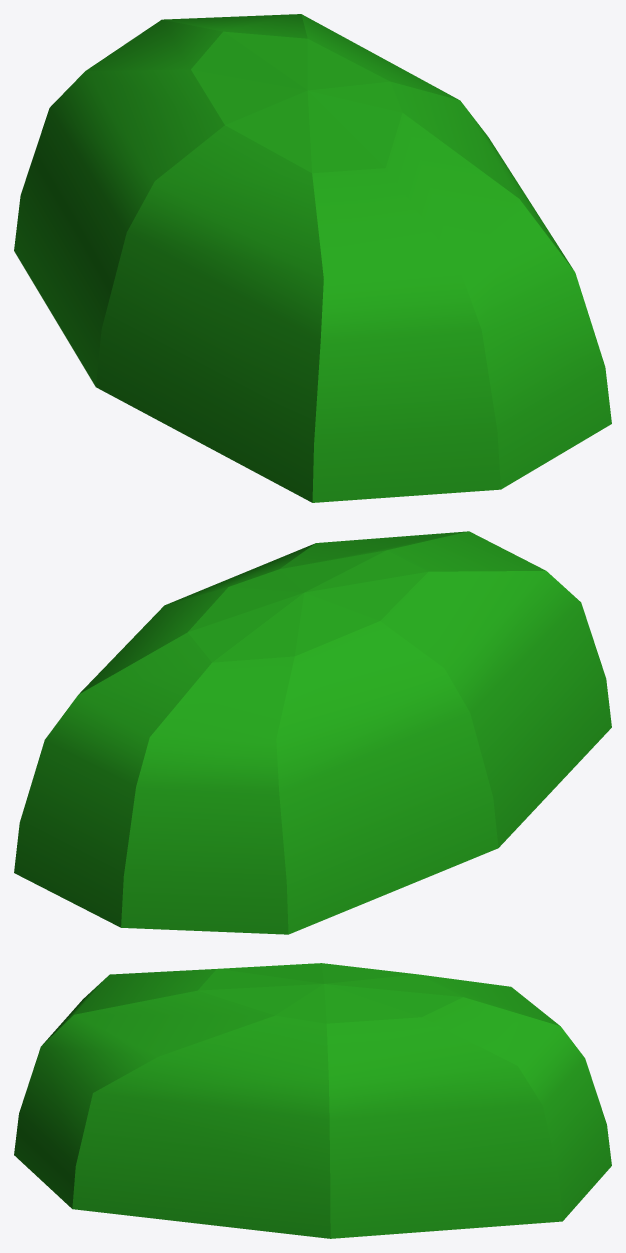
File: Bush2.glb
The picture shows the model from 3 angles, top to bottom: view 1: azimuth 30°, elevation 25°; view 2: azimuth 150°, elevation 25°; view 3: azimuth 270°, elevation 25°; orthographic projection. The views are drawn at different scales.
Parts seen in each view (by area): view 1: Bush2; view 2: Bush2; view 3: Bush2.
Part boxes in pixels (bbox=[...]): Bush2: bbox=[14, 14, 611, 502]; Bush2: bbox=[14, 531, 611, 934]; Bush2: bbox=[14, 963, 611, 1238].
Size of the model in its own units: 0.6799 by 0.362 by 1.11.
